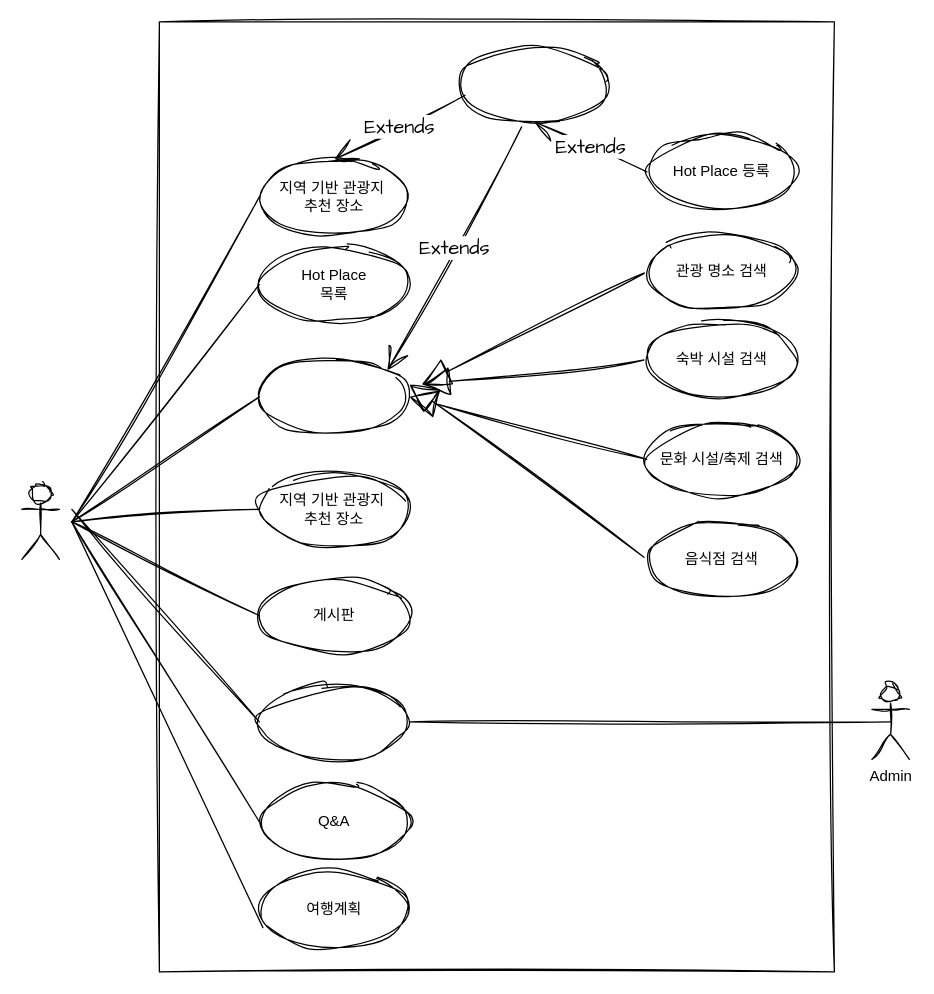
Some shapes in this 934 by 994 pixel diagram are drawn without their labels. The shapes that lost their labels are listed below. From the top down, each one's box as (x1, y1, x2, y2) in pixels, then its label:
(458, 46, 609, 122): 관광지 Dedatil
(258, 358, 409, 434): 지역 관광지 목록
(21, 483, 59, 559): User
(258, 683, 409, 759): 공지사항
